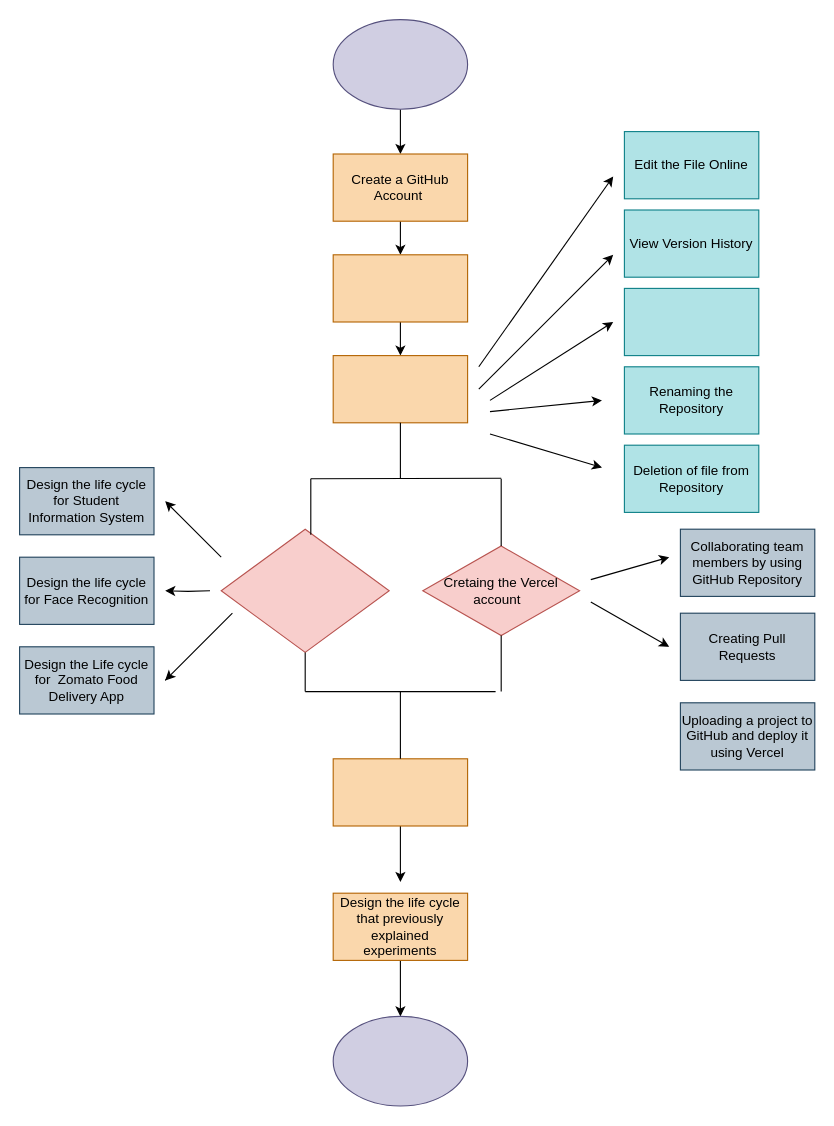
Some shapes in this 834 by 1126 pixel diagram are drawn without their labels. The shapes that lost their labels are listed below. From the top down, each one's centre as x and y in pixels, then its label:
At point 400,63: "Start".
At point 400,288: "Create a New Repository".
At point 691,321: "Deletion of Repository".
At point 400,388: "Upload a File".
At point 304,590: "Design the Life Cycle Using Diagram.net Tool".
At point 400,792: "Design and Develop a single page web application".
At point 400,1060: "End".
